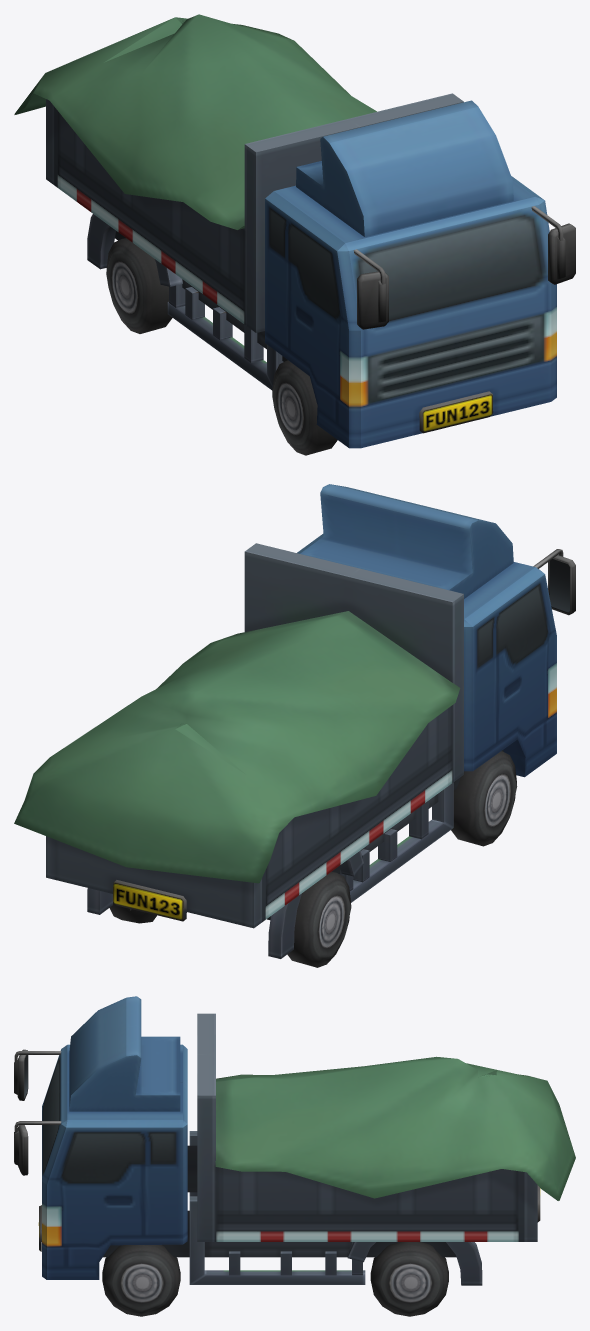
The model's file is huoche.FBX.
3 views of the same model, one above another, from view 1: azimuth 30°, elevation 25°; view 2: azimuth 150°, elevation 25°; view 3: azimuth 270°, elevation 25° (orthographic). The views are drawn at different scales.
Parts seen in each view (by area): view 1: Object03; view 2: Object03; view 3: Object03.
Part boxes in pixels (left/top/right/bottom): Object03: left=14, top=14, right=575, bottom=455; Object03: left=14, top=484, right=575, bottom=967; Object03: left=14, top=996, right=575, bottom=1316.
Bounding box in the file's own units: 266 × 315 × 635.
1 material, 1 textured.
